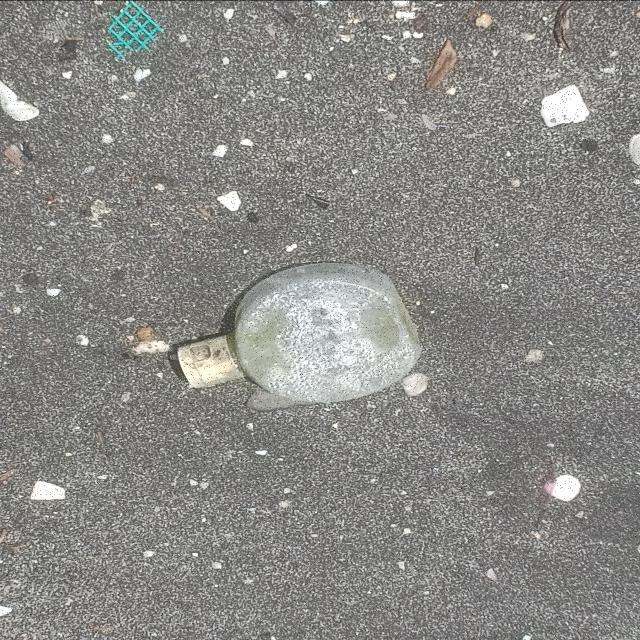plastic_waste: (175, 261, 425, 406)
